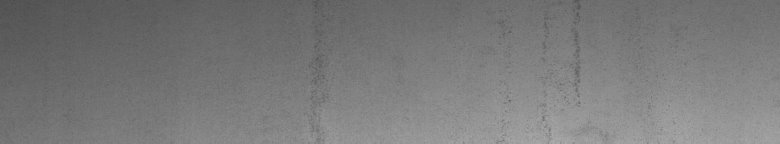ib: (500, 4, 583, 127)
